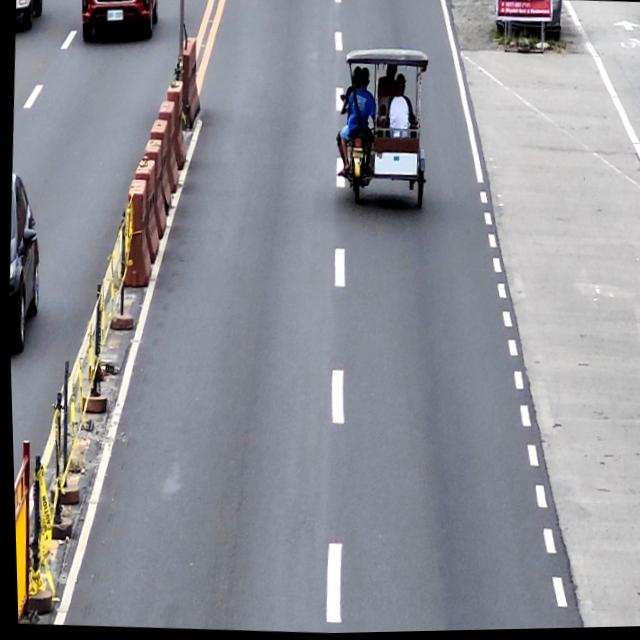Tricycle: (334, 47, 433, 212)
